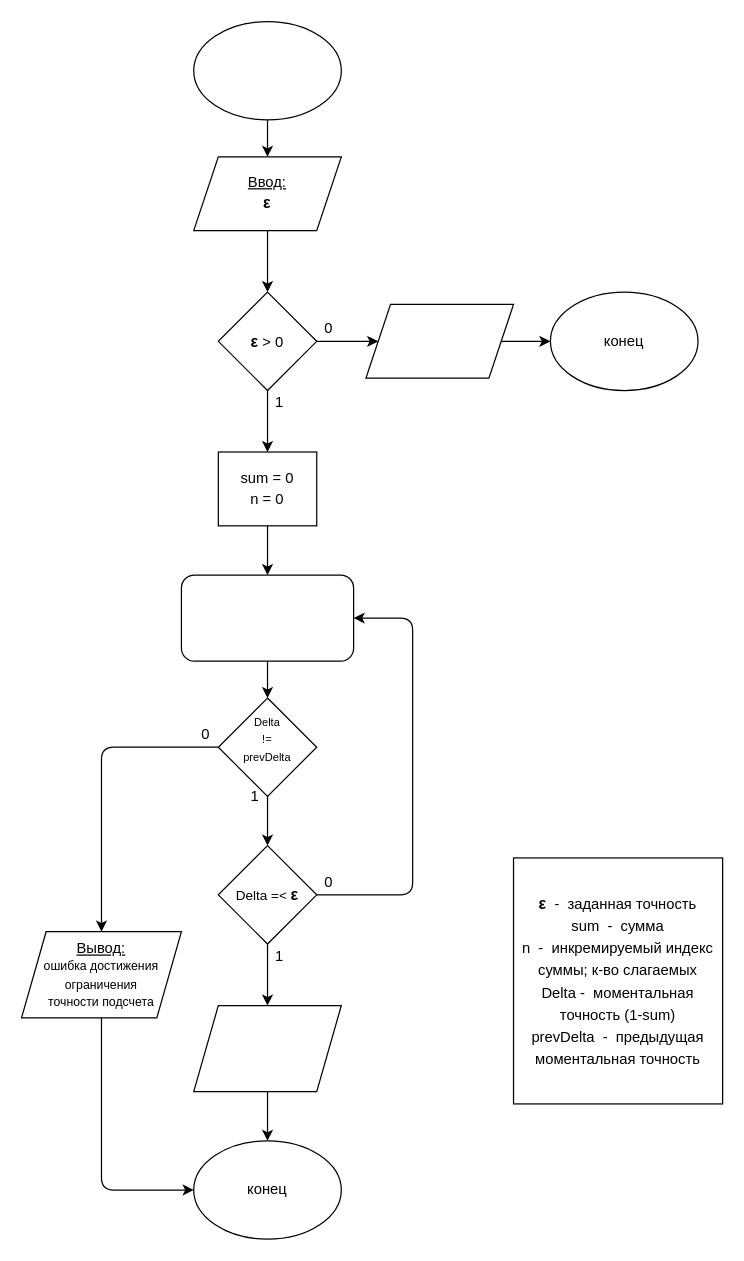
This 744x1261 diagram has some shape labels left out. Each missing label, with the centre of its shape:
"prevDelta = Delta n++ sum += 1 / n / (n + 1)" goes at pixel 267 617.
"Вывод: n sum Delta" goes at pixel 266 1048.
"Вывод: ошибка" goes at pixel 439 340.
"начало" goes at pixel 266 70.
